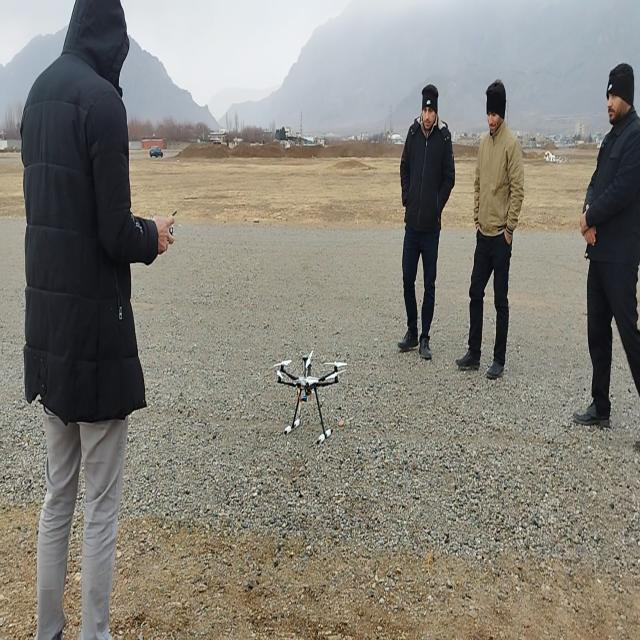drone: (273, 348, 347, 445)
